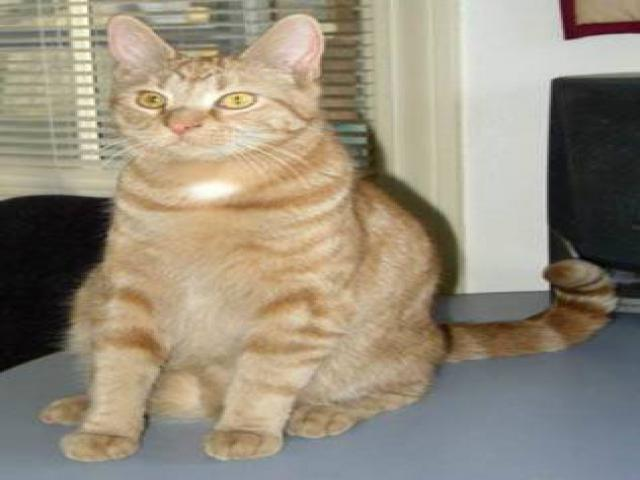cat: (57, 15, 598, 459)
